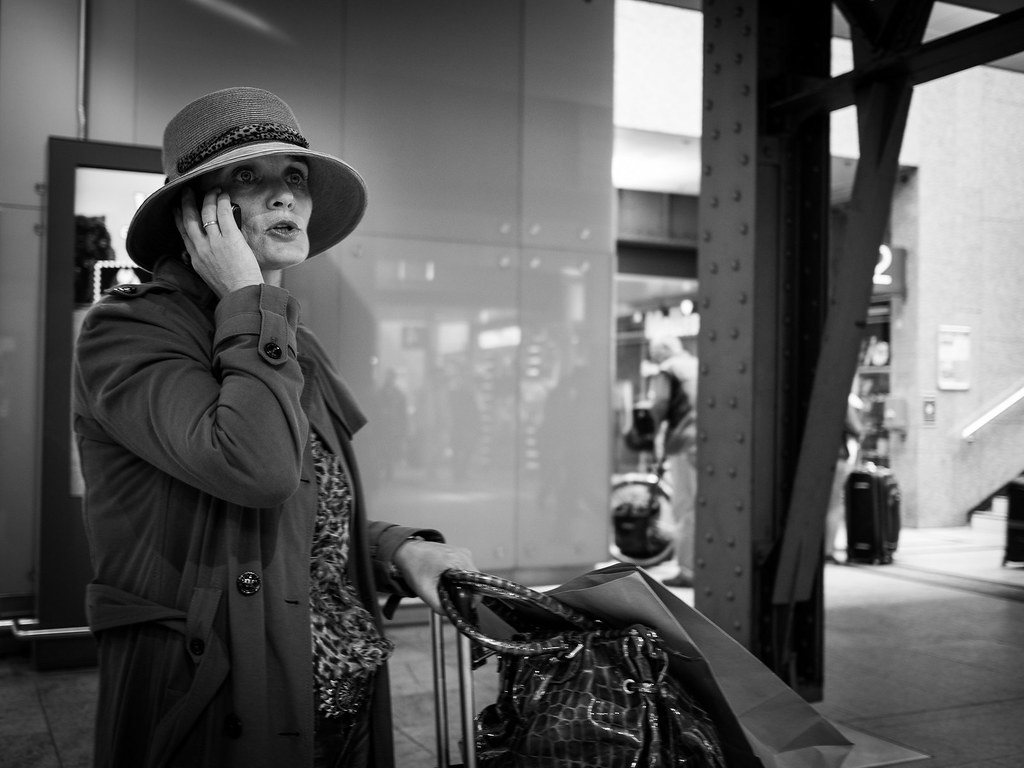phone: (166, 183, 246, 259)
talk: (167, 159, 324, 282)
